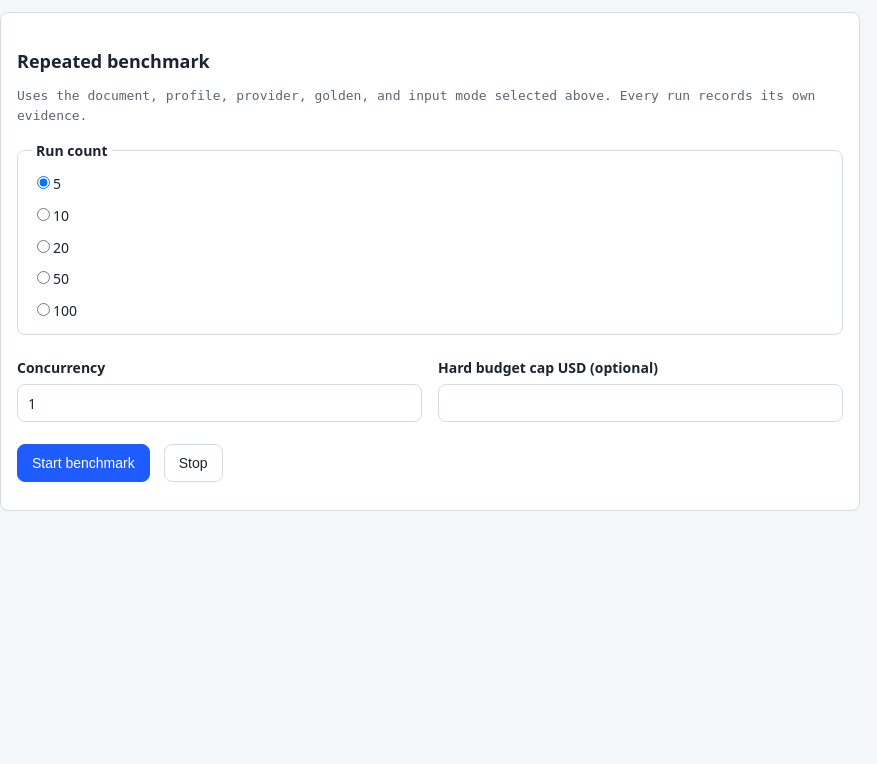
RepeatedBenchmarkSection › shows the manual stop reason once the run settles
This screenshot has width=877, height=764.
Step 1. Click the button "Start benchmark" → [83, 463], box [17,444,150,482]
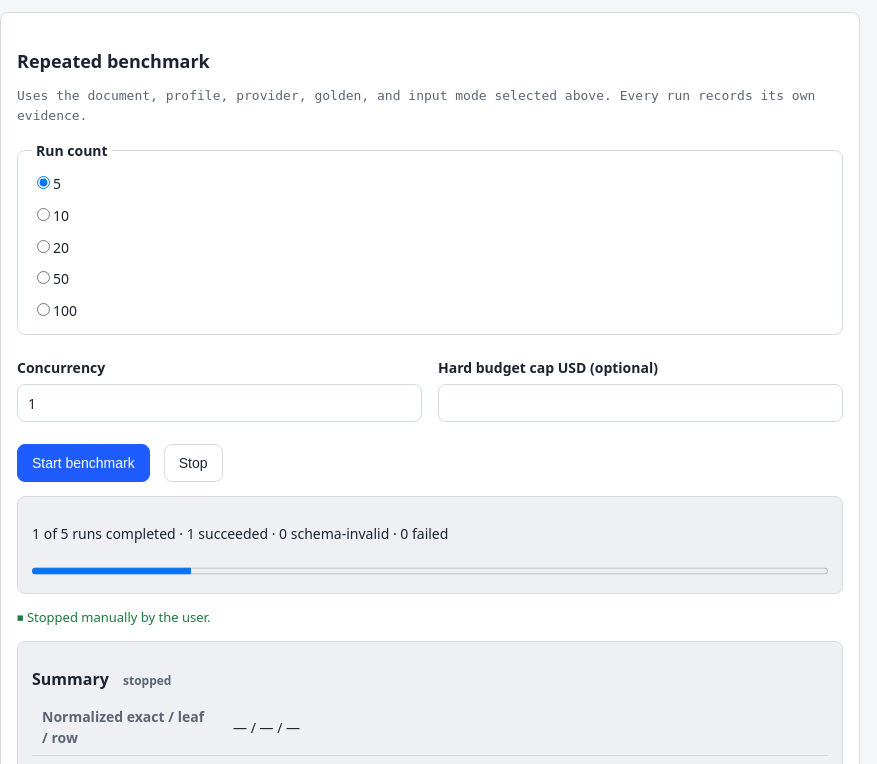
Check: the text "⏹ Stopped manually by the user." is shown, box [17,608,210,626]
